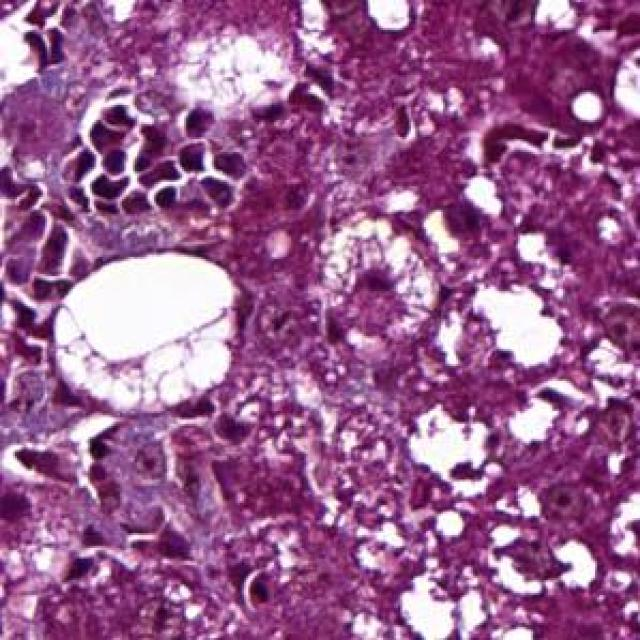ballooning: (43, 248, 248, 418)
